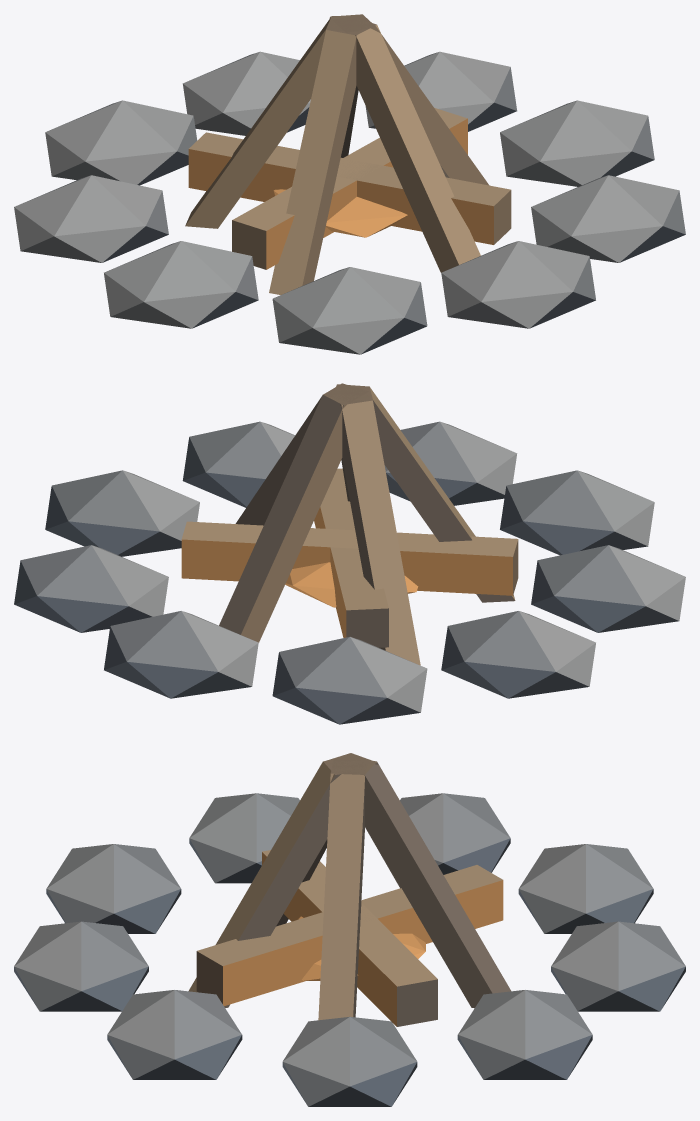
File: campfire.glb
3 views of the same model, one above another, from view 1: azimuth 30°, elevation 25°; view 2: azimuth 150°, elevation 25°; view 3: azimuth 270°, elevation 25° (orthographic). The views are drawn at different scales.
Parts seen in each view (by area): view 1: campfire; view 2: campfire; view 3: campfire.
Boxes of the visible parts, bbox=[...] form: campfire: bbox=[14, 14, 685, 354]; campfire: bbox=[14, 383, 685, 724]; campfire: bbox=[14, 753, 685, 1106].
Size of the model in its own units: 1.41 by 0.48 by 1.36.
